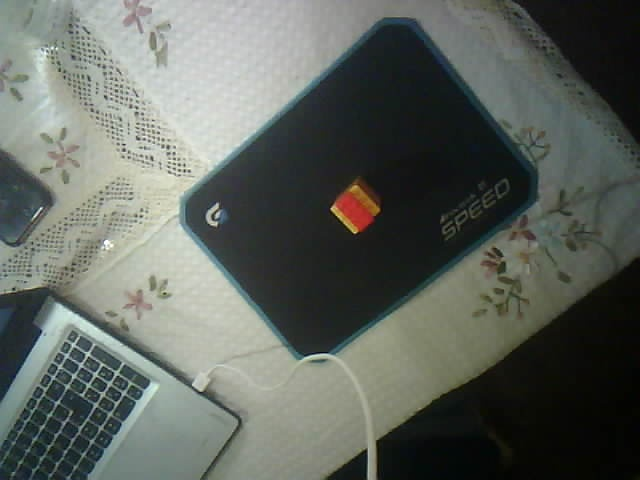lego: (329, 177, 382, 235)
